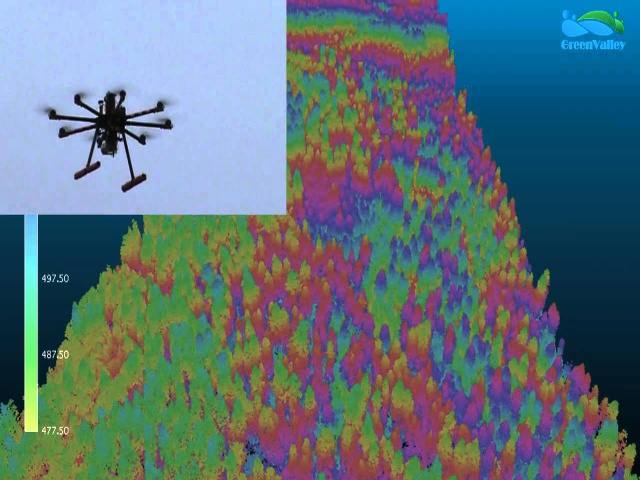drone: (35, 79, 177, 195)
